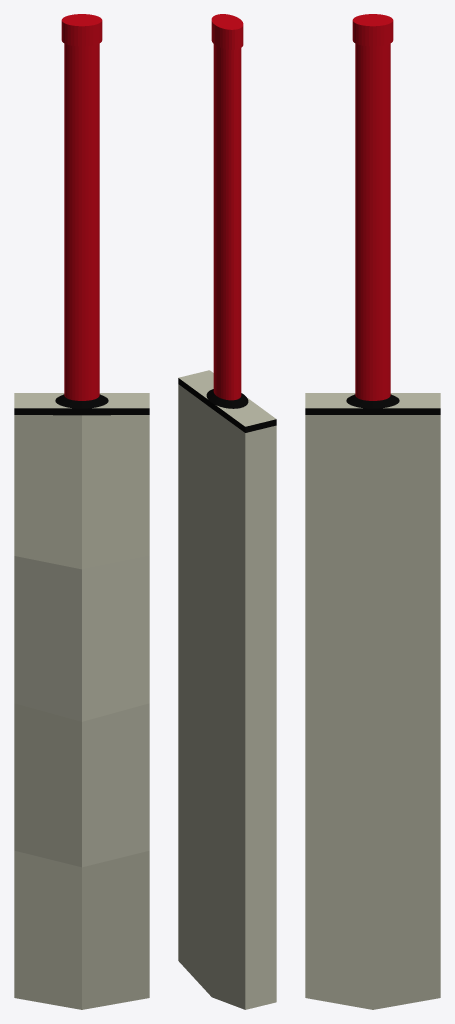
Rendered from cricketBat.fbx.
3 views of the same model, side by side, from view 1: azimuth 90°, elevation 25°; view 2: azimuth 210°, elevation 25°; view 3: azimuth 270°, elevation 25° (orthographic).
Parts seen in each view (by area): view 1: Cube, Cylinder; view 2: Cube, Cylinder; view 3: Cube, Cylinder.
Boxes of the visible parts, <box> form: Cube: <box>14,393,149,1009</box>; Cylinder: <box>55,14,108,408</box>; Cube: <box>178,370,276,1009</box>; Cylinder: <box>206,14,248,408</box>; Cube: <box>305,393,440,1009</box>; Cylinder: <box>346,14,399,408</box>.
Size of the model in its own units: 27.79 by 448 by 55.99.
